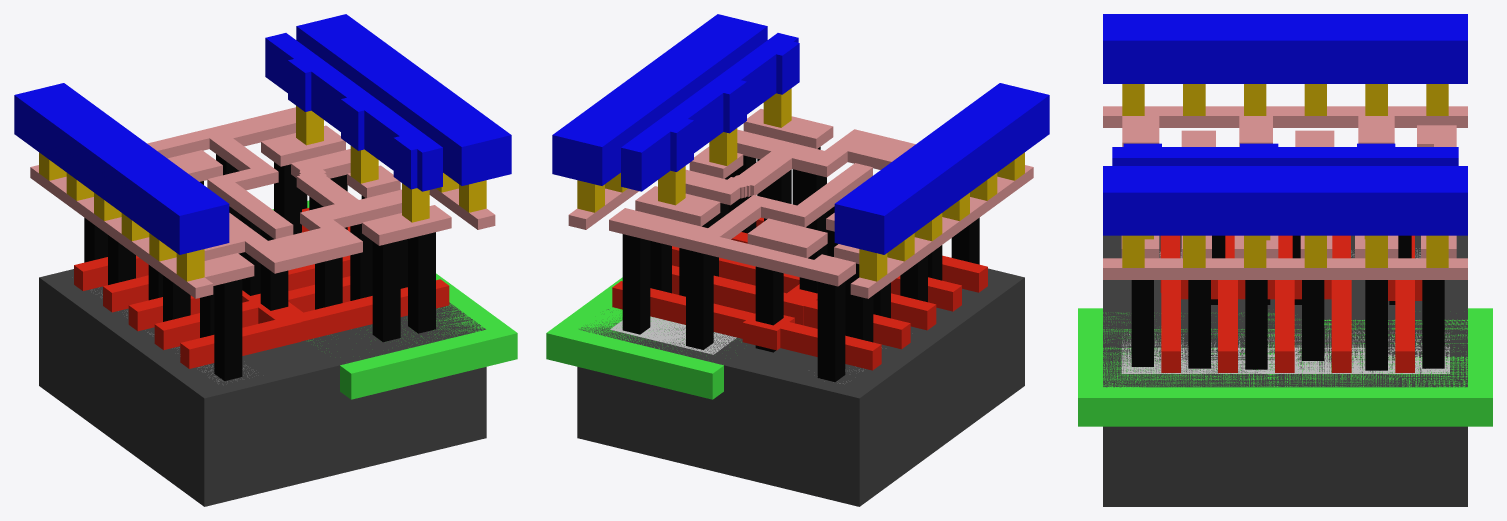
The model's file is sky130_fd_sc_hd__lpflow_clkbufkapwr_4.obj.
3 views of the same model, side by side, from view 1: azimuth 30°, elevation 25°; view 2: azimuth 150°, elevation 25°; view 3: azimuth 270°, elevation 25° (orthographic). The views are drawn at different scales.
Parts seen in each view (by area): view 1: subs, metal1, li, licon, poly, nwell, mcon; view 2: subs, metal1, li, licon, poly, nwell, mcon, tap; view 3: metal1, subs, nwell, li, licon, poly, mcon, tap.
Boxes of the visible parts, left/top/right/bottom form: subs: left=39, top=269, right=486, bottom=506; metal1: left=14, top=14, right=511, bottom=254; li: left=30, top=107, right=495, bottom=298; licon: left=84, top=154, right=435, bottom=381; poly: left=74, top=208, right=449, bottom=368; nwell: left=272, top=200, right=517, bottom=399; mcon: left=39, top=105, right=486, bottom=281; subs: left=577, top=268, right=1024, bottom=506; metal1: left=552, top=14, right=1049, bottom=254; li: left=568, top=109, right=1033, bottom=298; licon: left=622, top=147, right=979, bottom=381; poly: left=612, top=217, right=987, bottom=370; nwell: left=546, top=277, right=741, bottom=399; mcon: left=577, top=88, right=1024, bottom=281; tap: left=610, top=316, right=736, bottom=354; metal1: left=1103, top=14, right=1467, bottom=235; subs: left=1103, top=235, right=1467, bottom=506; nwell: left=1078, top=308, right=1492, bottom=426; li: left=1103, top=106, right=1467, bottom=279; licon: left=1131, top=235, right=1444, bottom=370; poly: left=1160, top=235, right=1422, bottom=372; mcon: left=1122, top=84, right=1448, bottom=267; tap: left=1121, top=329, right=1449, bottom=373.
Bounding box in the file's own units: 3.2 × 2.74 × 3.14.
